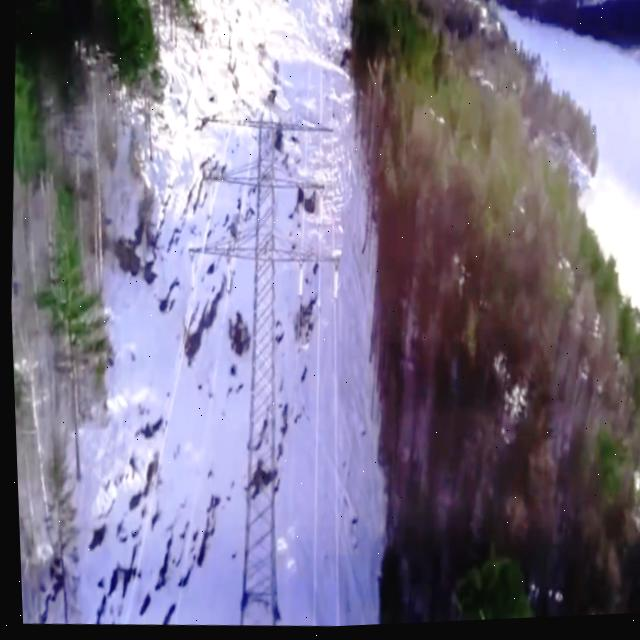poles: (179, 117, 340, 626)
wires: (305, 267, 320, 628), (329, 269, 337, 628), (199, 185, 219, 251), (296, 196, 310, 249), (300, 136, 310, 180), (315, 204, 322, 251), (316, 138, 321, 179)
